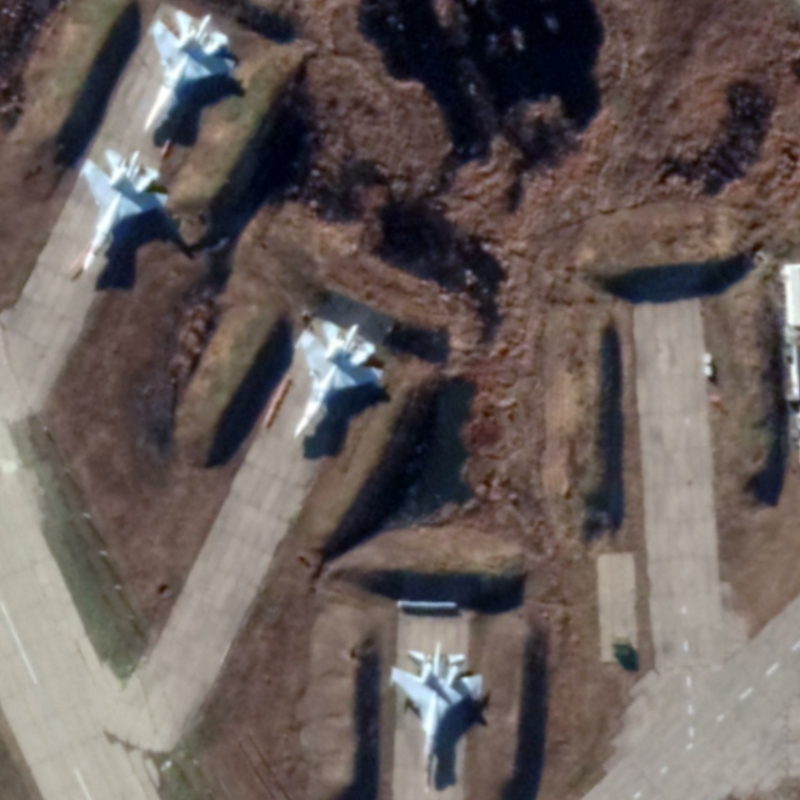A1: (385, 639, 487, 792), (139, 6, 241, 139), (75, 146, 172, 275), (291, 318, 388, 440)
